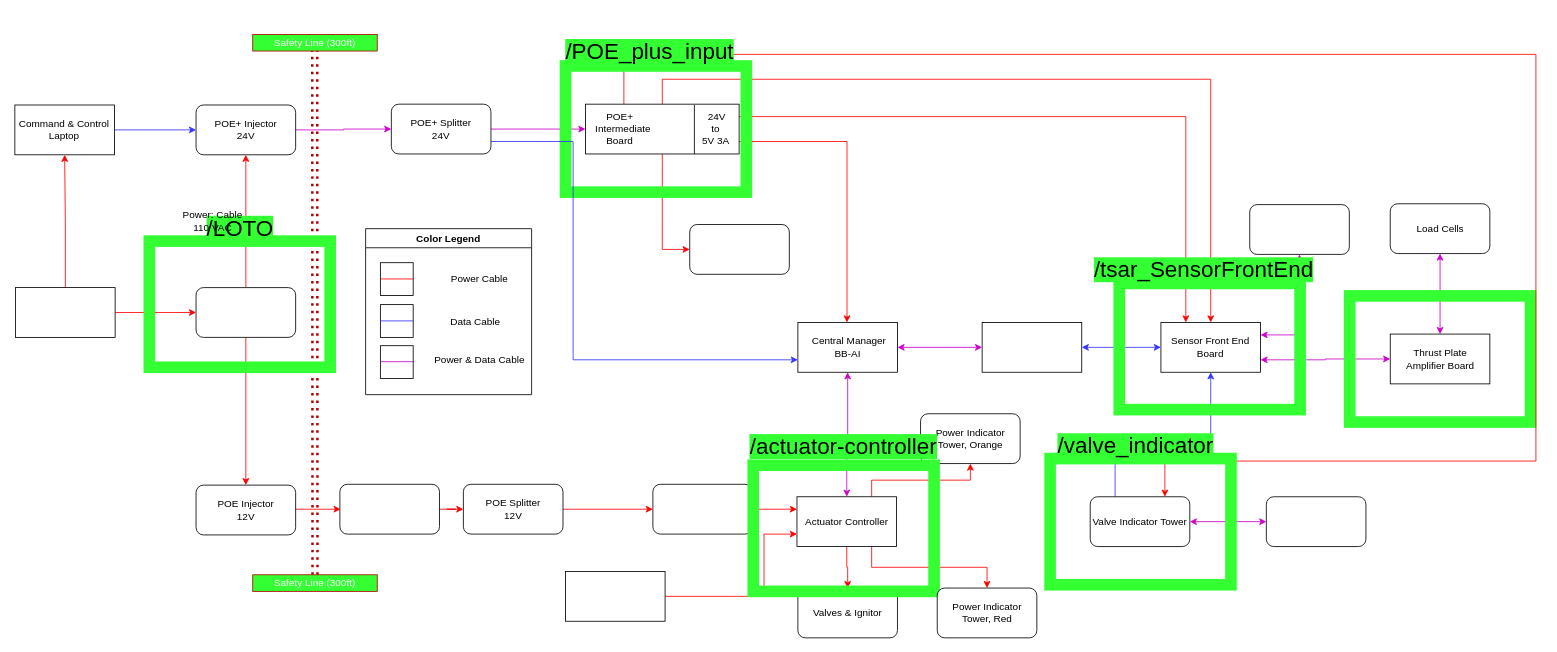
Some shapes in this 1557 by 652 pixel diagram are drawn without their labels. Each missing label, with the centre of its shape:
"Keyswitch" belongs at point (702, 508).
"LOTO" belongs at point (245, 312).
"Main Battery w/200W Inverter" belongs at point (65, 312).
"Marionette" belongs at point (1031, 347).
"Pass Through/Shorting Interlock" belongs at point (389, 508).
"Power Indicator Tower, Green" belongs at point (739, 249).
"Pressure, Temperature, and Position Sensors" belongs at point (1299, 229).
"Test Stand Battery 24V" belongs at point (615, 596).
"Valve Position Sensors" belongs at point (1316, 521).
